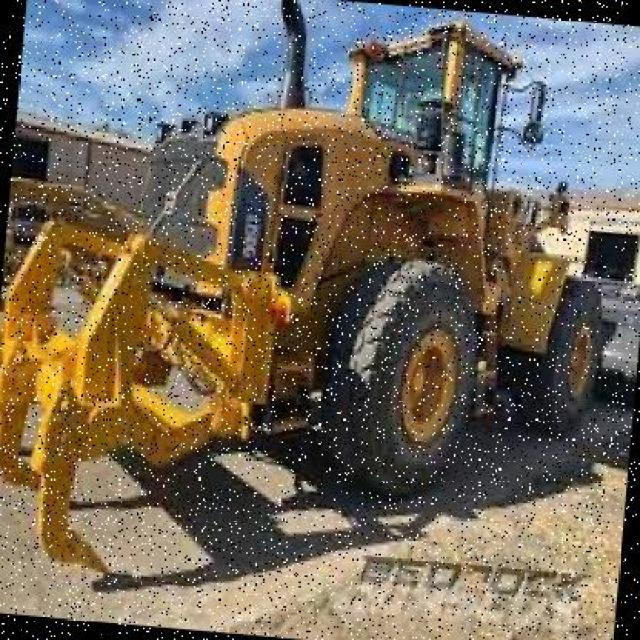buldozerpayloadergrader: (72, 0, 640, 522)
